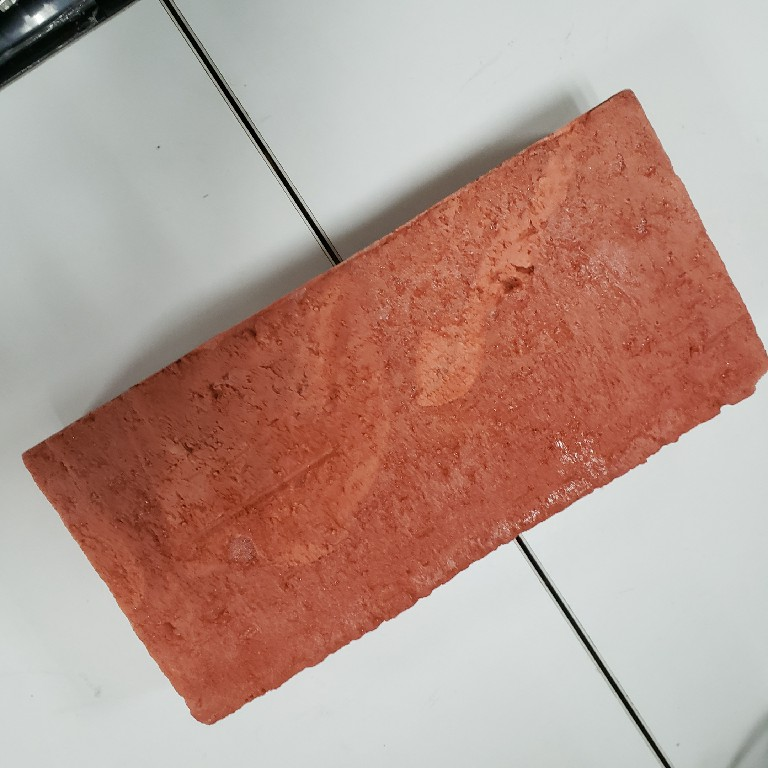brick: (19, 83, 768, 735)
